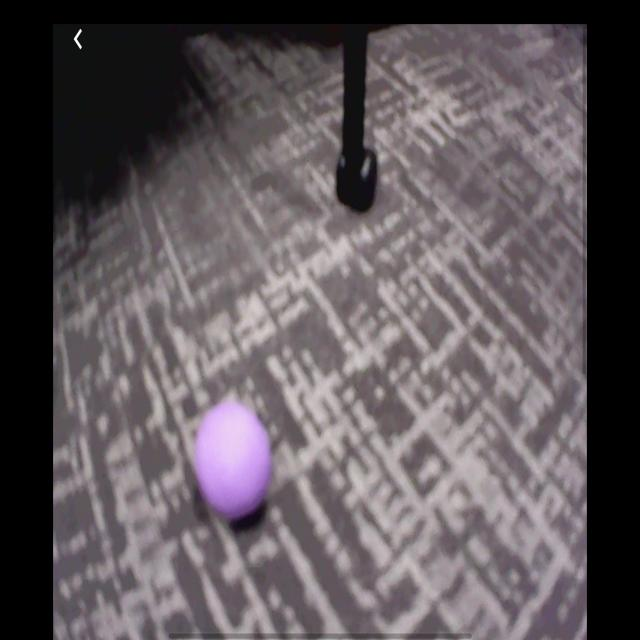ball: (194, 400, 274, 521)
